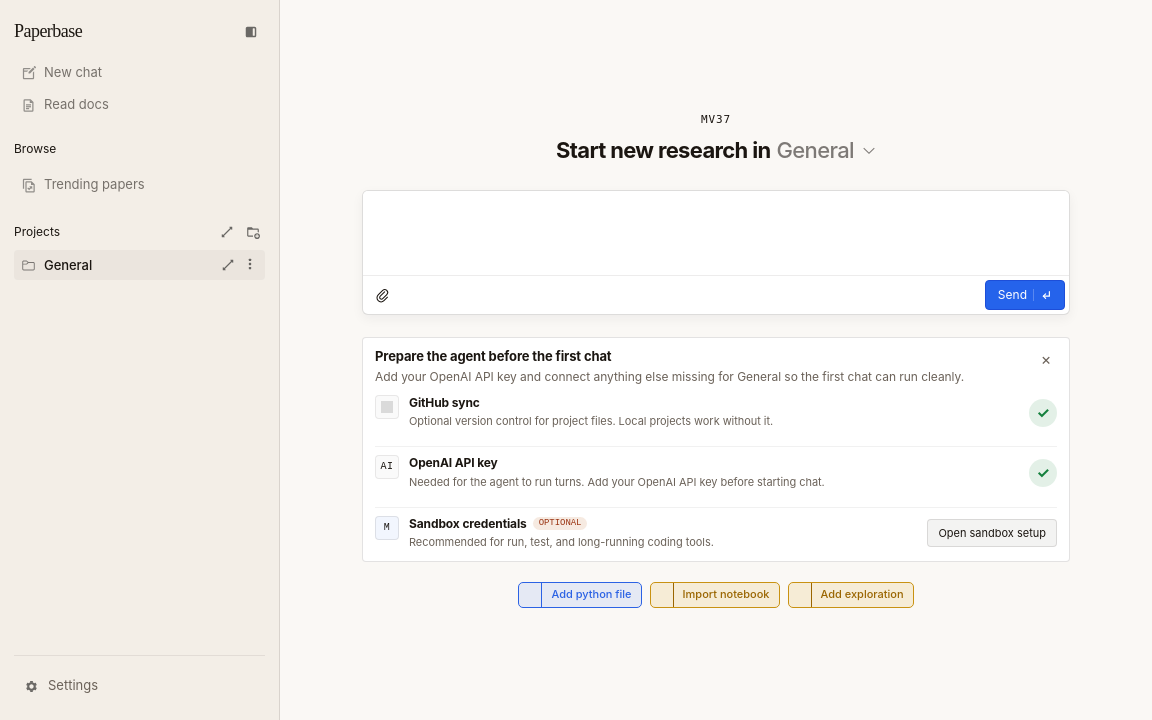
Test case: App › shows live project presentation progress with an ETA
Expected: the text "General" below "Browse" is shown, [44, 257, 92, 273]
What coordinates should you click on to do the following:
click the button "General" below "Browse"
I would click on:
 (140, 265)
Its box is [14, 250, 265, 280].
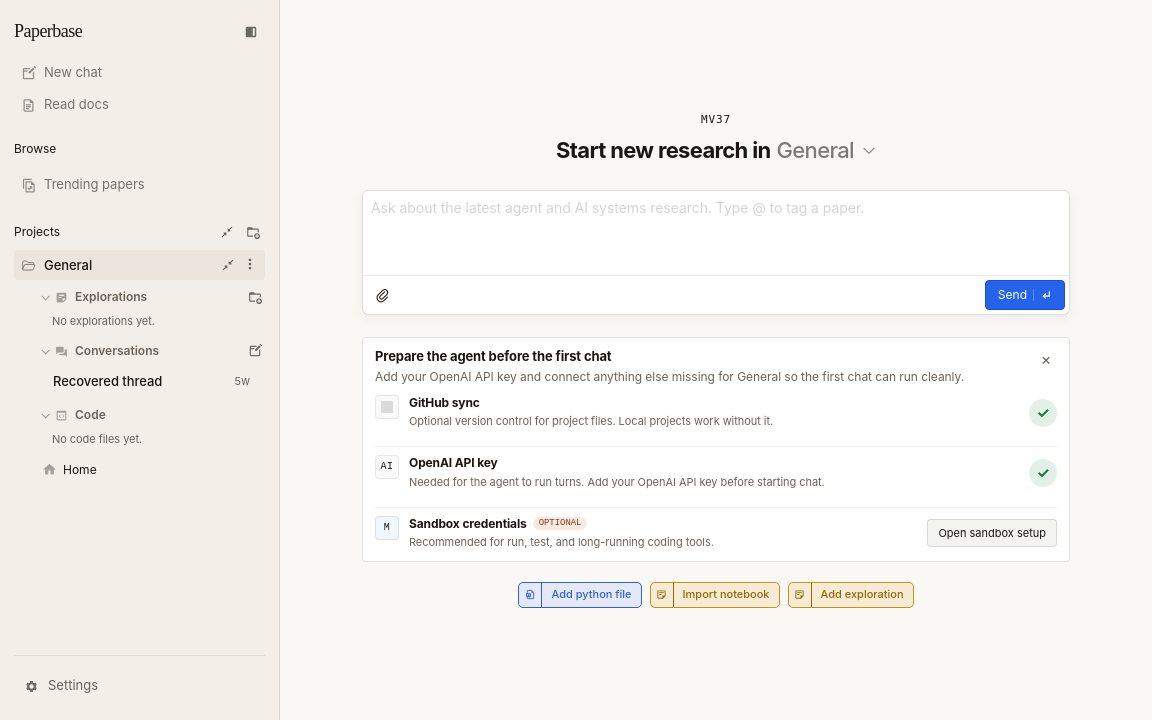
What coordinates should you click on to do the following:
click the button "Home"
I would click on:
 (150, 470)
Its box is [36, 457, 265, 483].
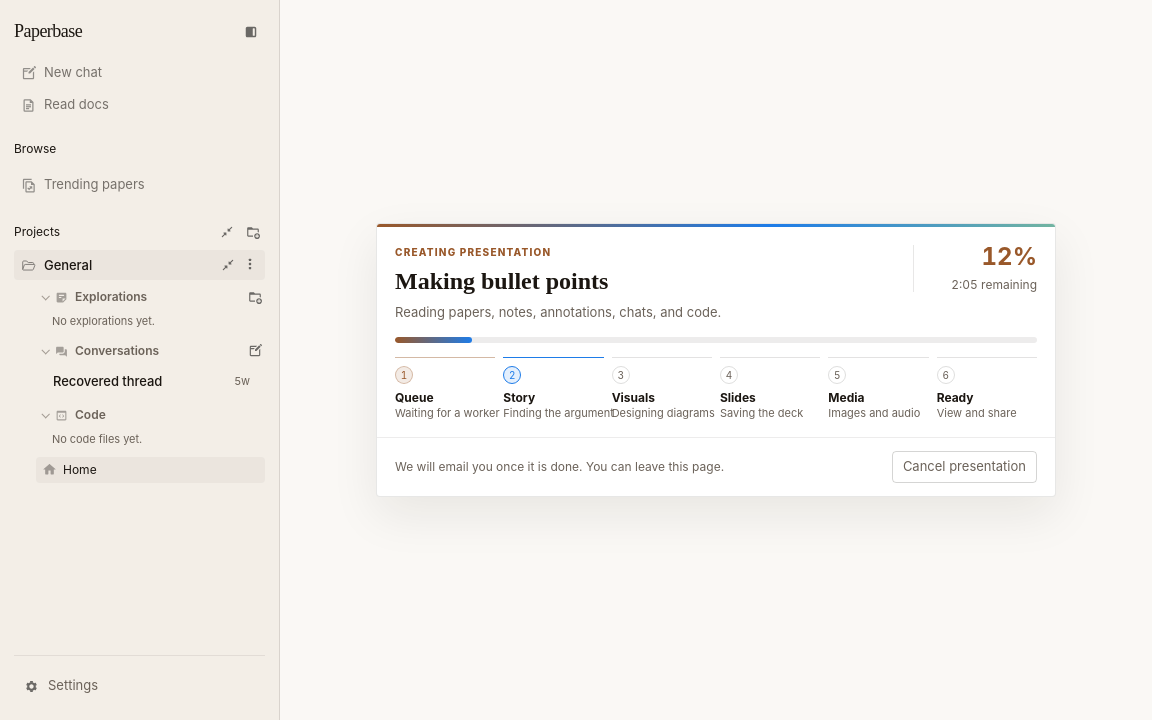
Now the heading "Making bullet points" is shown, box [395, 268, 608, 294]
Now the text "Reading papers, notes, annotations, chats, and code." is shown, box [395, 304, 721, 320]
Now the text "12%" is shown, box [982, 245, 1037, 269]
